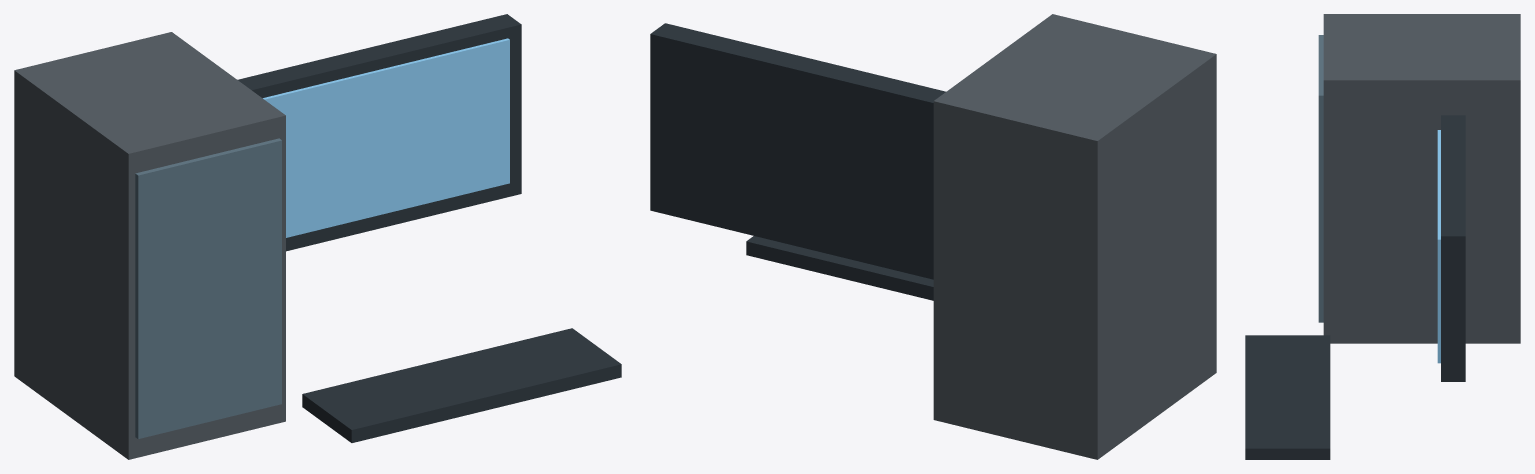
The model's file is gaming-pc-lod2.glb.
3 renders of one model, left to right at view 1: azimuth 30°, elevation 25°; view 2: azimuth 150°, elevation 25°; view 3: azimuth 270°, elevation 25°, orthographic. The views are drawn at different scales.
Visible parts, largest first — view 1: tower, side_glass, screen, keyboard, monitor; view 2: tower, monitor, keyboard; view 3: tower, keyboard, monitor, side_glass, screen.
Boxes of the visible parts, <box> form: tower: <box>14,32,285,459</box>; side_glass: <box>135,138,281,439</box>; screen: <box>263,38,509,237</box>; keyboard: <box>302,328,621,442</box>; monitor: <box>237,14,521,251</box>; tower: <box>933,14,1216,459</box>; monitor: <box>650,23,945,279</box>; keyboard: <box>746,236,933,300</box>; tower: <box>1323,14,1520,343</box>; keyboard: <box>1245,335,1330,459</box>; monitor: <box>1441,115,1465,381</box>; side_glass: <box>1318,35,1323,322</box>; screen: <box>1437,130,1440,363</box>.
Bounding box in the file's own units: 10.25 × 6.5 × 6.15.
